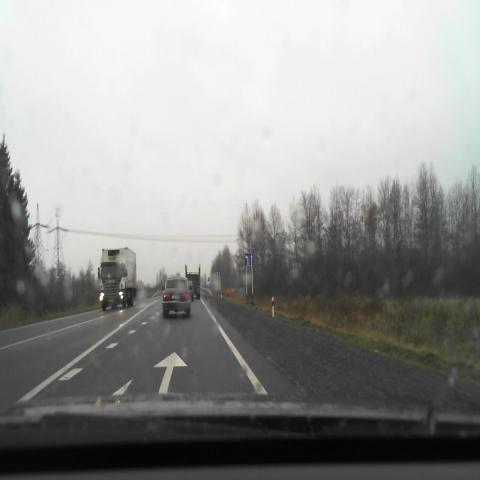5_15_2_2: (244, 253, 254, 267)
